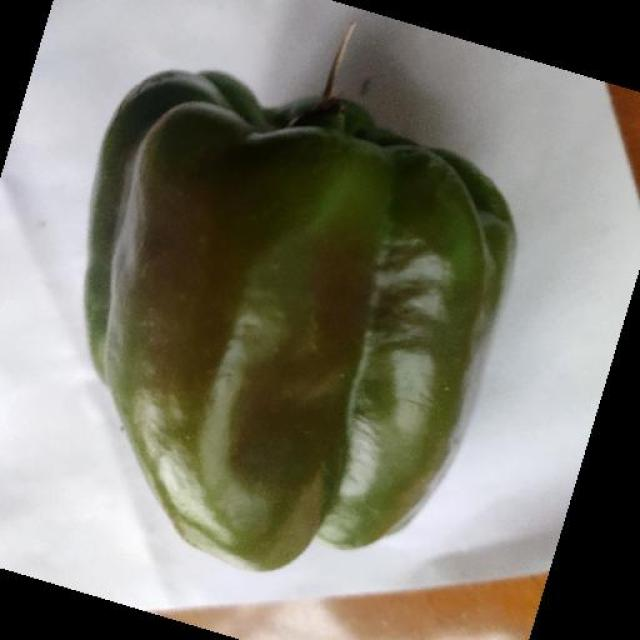Stale_Capsicum: (68, 102, 497, 578)
